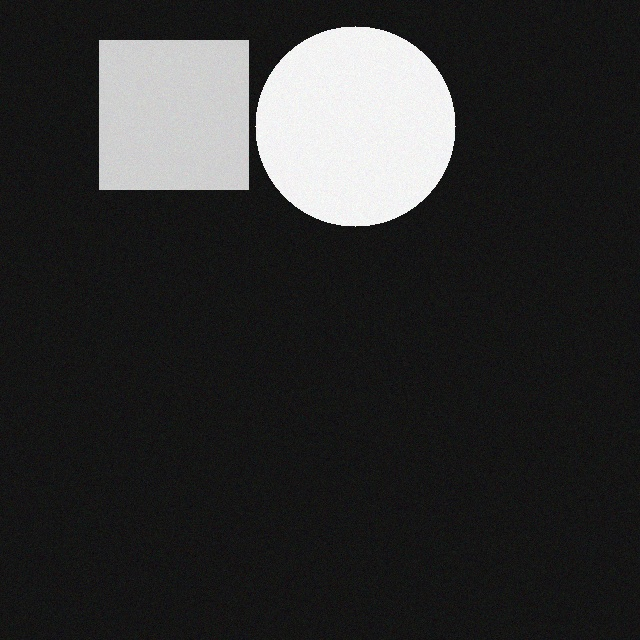circle: (243, 28, 443, 228)
square: (87, 42, 236, 191)
